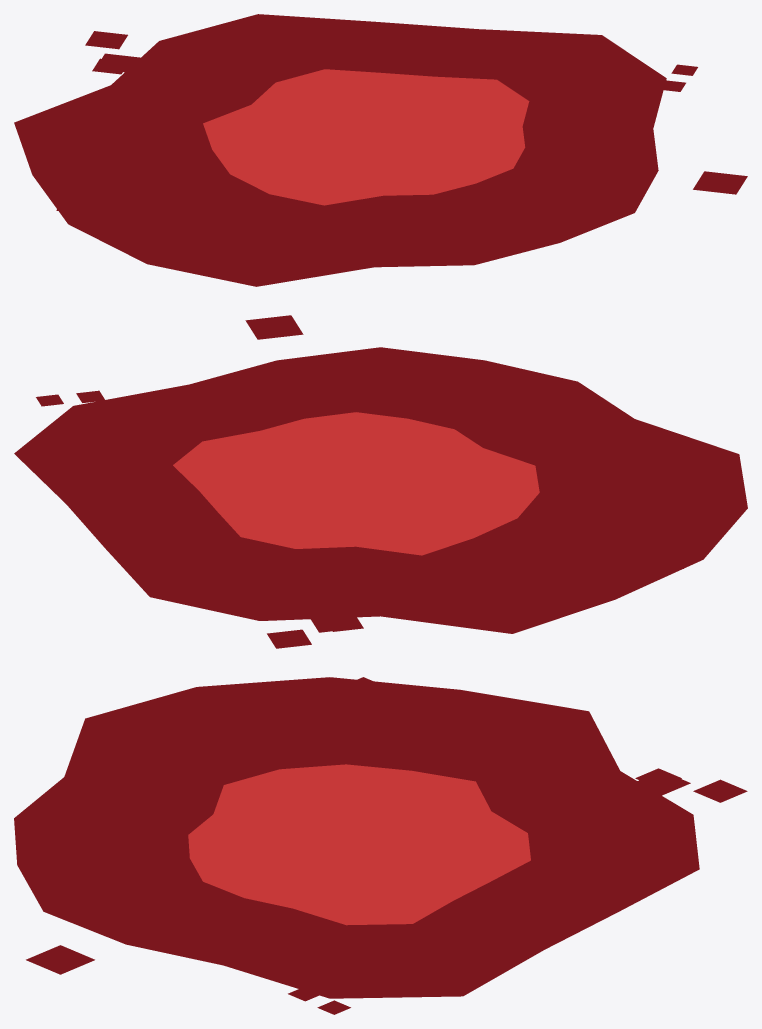
Rendered from blood_pool.glb.
3 renders of one model, top to bottom at view 1: azimuth 30°, elevation 25°; view 2: azimuth 150°, elevation 25°; view 3: azimuth 270°, elevation 25°, orthographic. The views are drawn at different scales.
Visible parts, largest first — view 1: blood_pool; view 2: blood_pool; view 3: blood_pool.
Boxes of the visible parts, box(x1,y1,x2,y2) form: blood_pool: box(14, 14, 747, 286); blood_pool: box(14, 315, 747, 648); blood_pool: box(14, 677, 747, 1014).
Size of the model in its own units: 1.98 by 0.01 by 1.81.
Materials: 1 (1 with a texture image).
